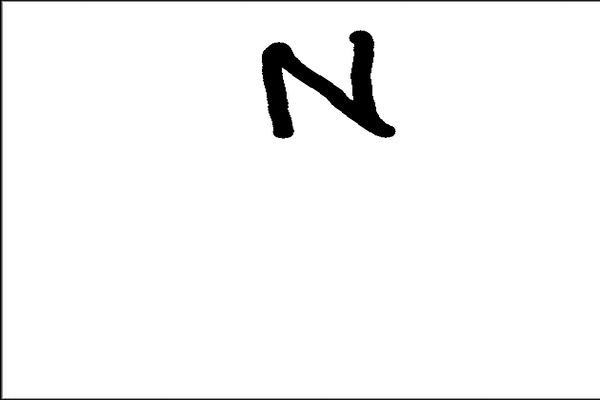N: (256, 29, 399, 144)
